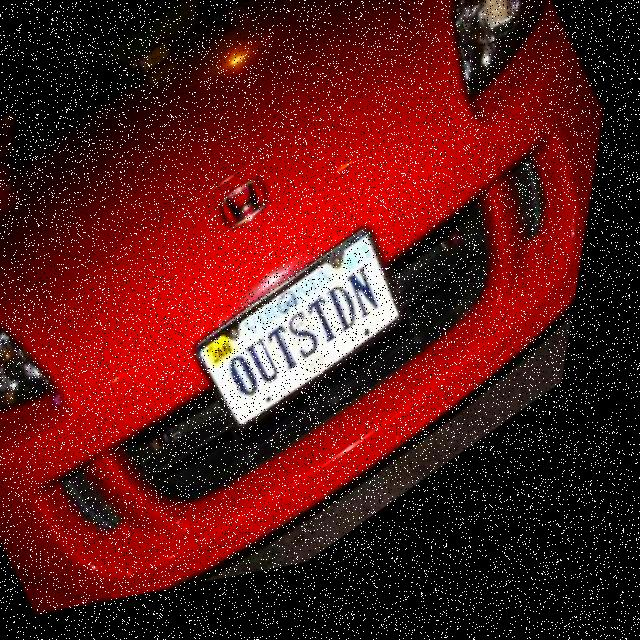license_plate: (190, 228, 439, 462)
